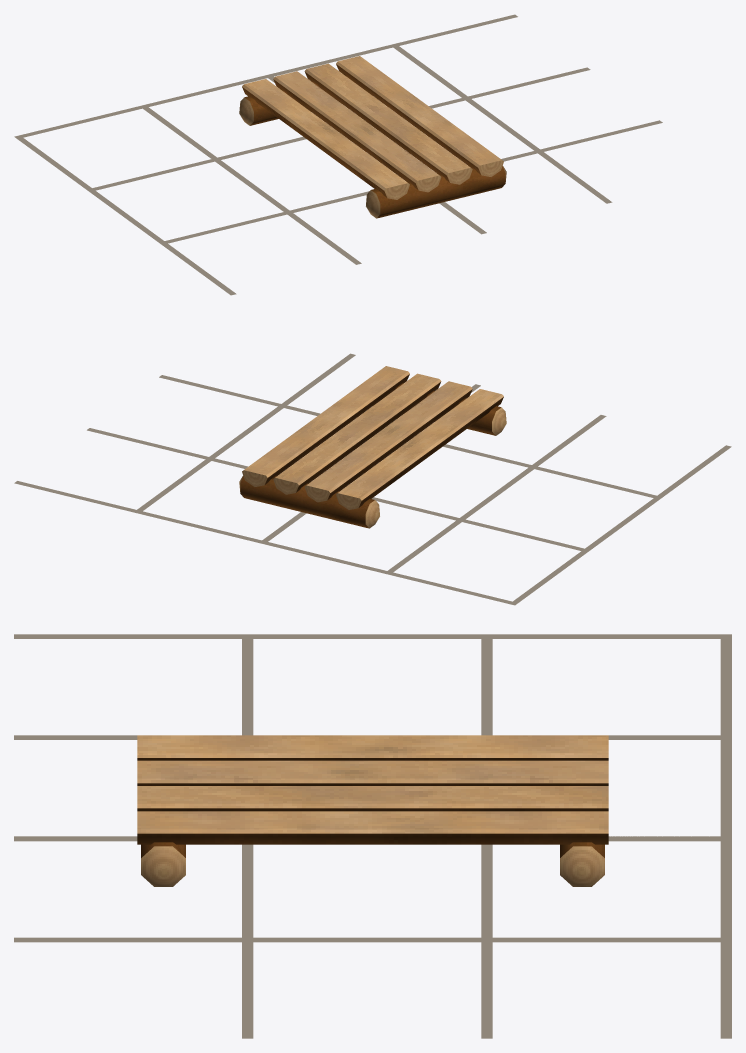
File: Docks_Decking_Flat_1x2.glb
3 views of the same model, one above another, from view 1: azimuth 30°, elevation 25°; view 2: azimuth 150°, elevation 25°; view 3: azimuth 270°, elevation 25° (orthographic). The views are drawn at different scales.
Visible parts, largest first — view 1: Docks_Decking_Flat_1x2, Floor; view 2: Docks_Decking_Flat_1x2, Floor; view 3: Docks_Decking_Flat_1x2, Floor.
Part boxes in pixels (x1,y1,x2,y2): Docks_Decking_Flat_1x2: (239,56,506,218); Floor: (14,14,662,295); Docks_Decking_Flat_1x2: (239,366,506,528); Floor: (14,353,731,605); Docks_Decking_Flat_1x2: (137,735,608,886); Floor: (14,634,731,1038).
Bounding box in the file's own units: 400 × 25 × 300.
4 materials, 4 textured.
